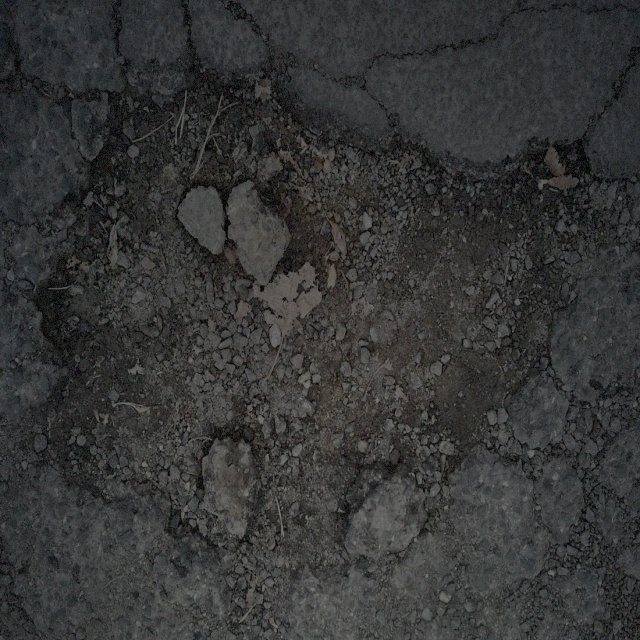pothole: (29, 55, 606, 576)
